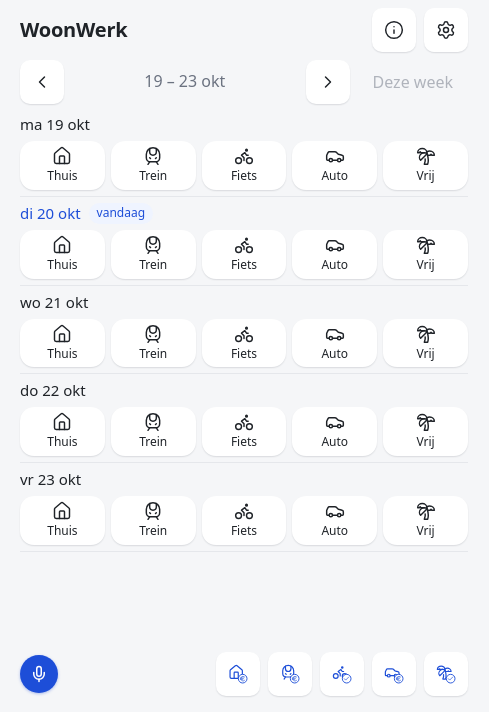
Test: AC15: backup maken › schrijft een backup met alle ingevulde dagen in de gekozen map
The width and height of the screenshot is (489, 712).
Click the button "Trein" below "ma 19 okt" at (153, 165), box [111,141,196,190]
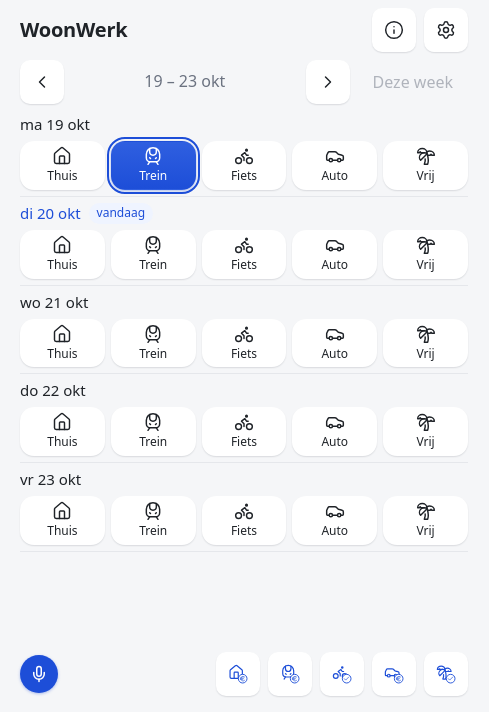
Click the button "Fiets" below "di 20 okt" at (244, 254), box [202,230,286,279]
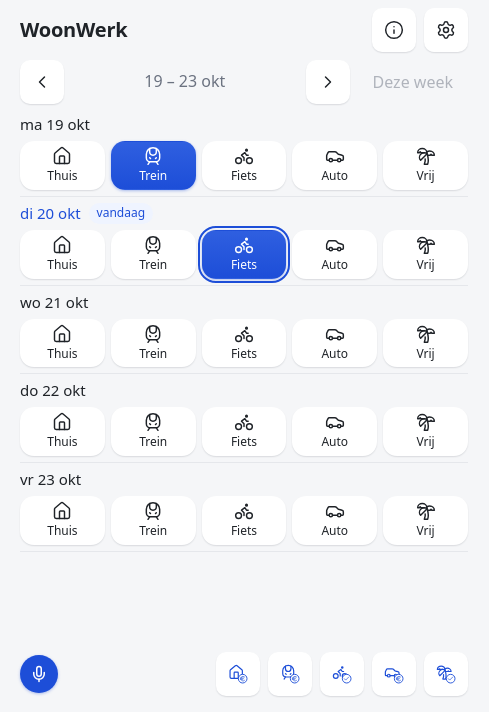
Click the button named "Instellingen en backup" at (446, 30), box [424,8,468,52]
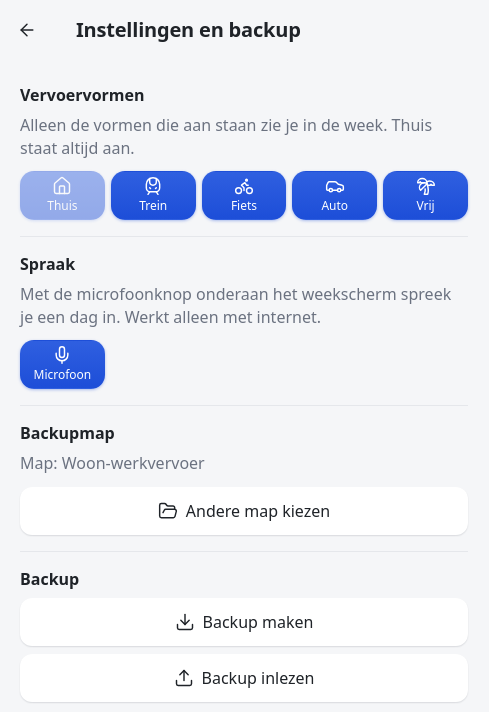
Expected: the text with test id "backupmap" shows "Woon-werkvervoer", [20,452,205,474]
Click the button "Backup maken" at (244, 622), box [20,598,468,646]
(page scrolled)
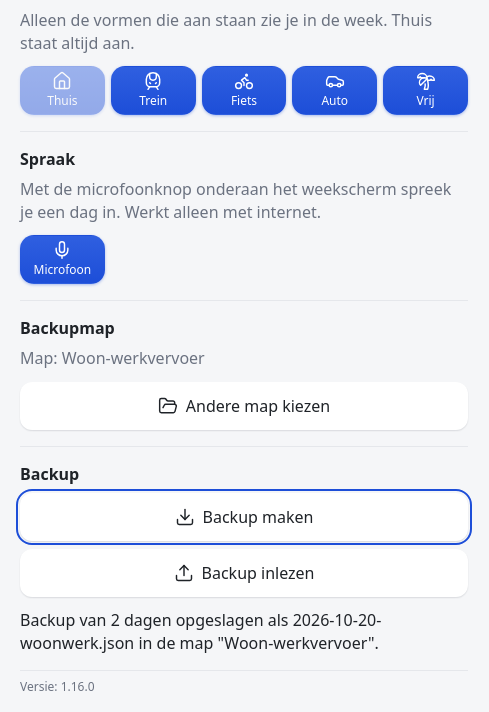
Expected: the message shows "opgeslagen als 2026-10-20-woonwerk.json in de map \"Woon-werkvervoer\"", [20,609,381,654]
